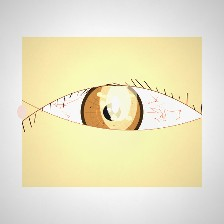corneal_ulcer: (88, 78, 149, 127)
